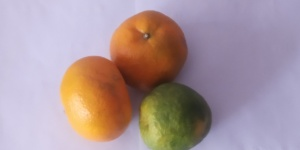BAD: (61, 55, 133, 142), (109, 10, 188, 89), (138, 81, 214, 150)
